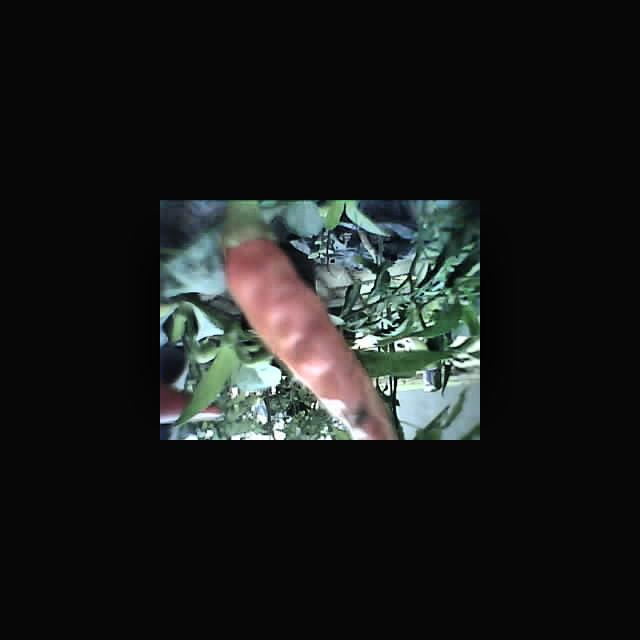Cabai: (227, 202, 409, 440)
